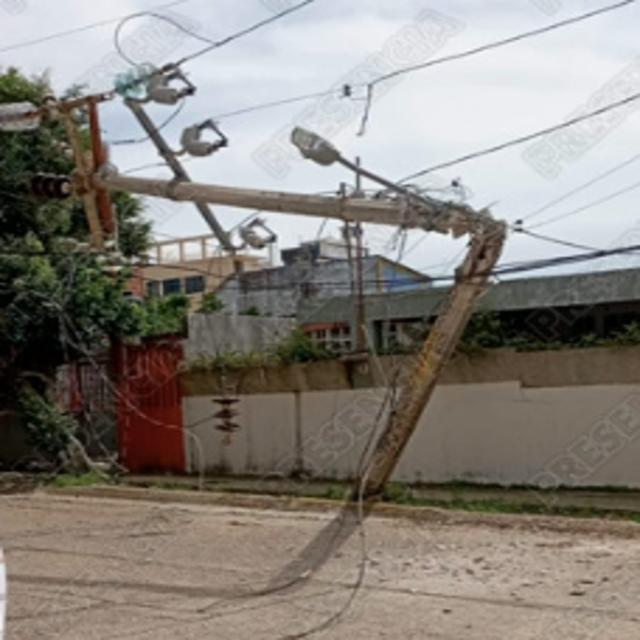Inclined Pole: (0, 62, 505, 514)
